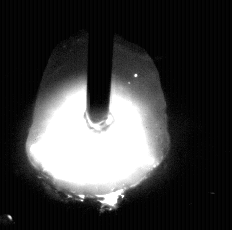arame: (88, 0, 111, 122)
poca: (26, 0, 172, 230)
